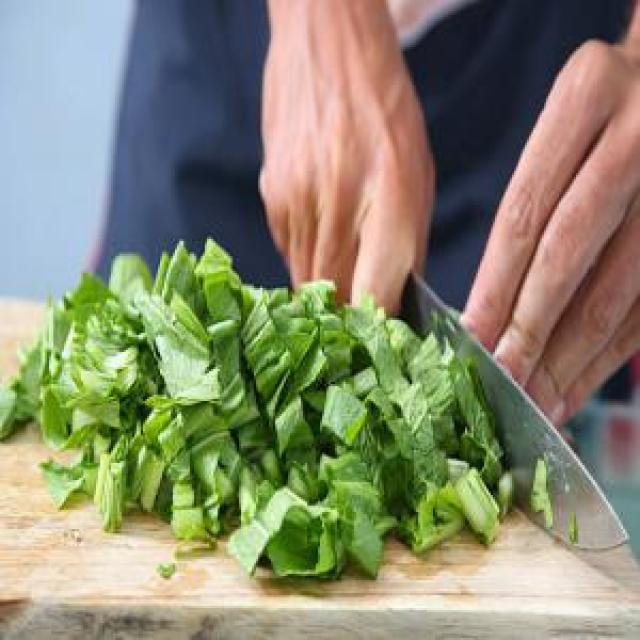knife: (390, 258, 632, 560)
